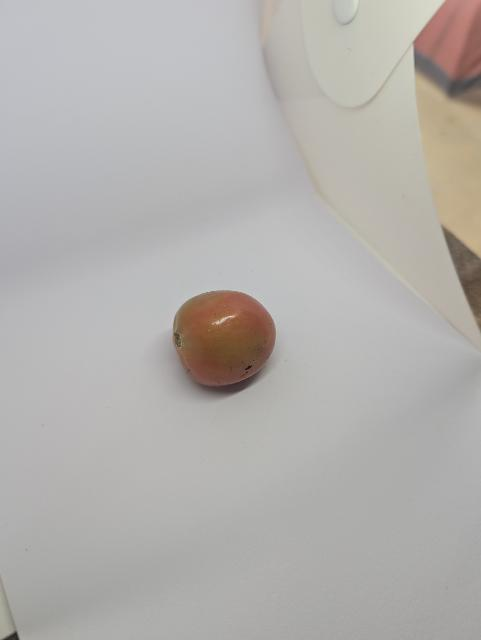turning: (162, 280, 287, 407)
